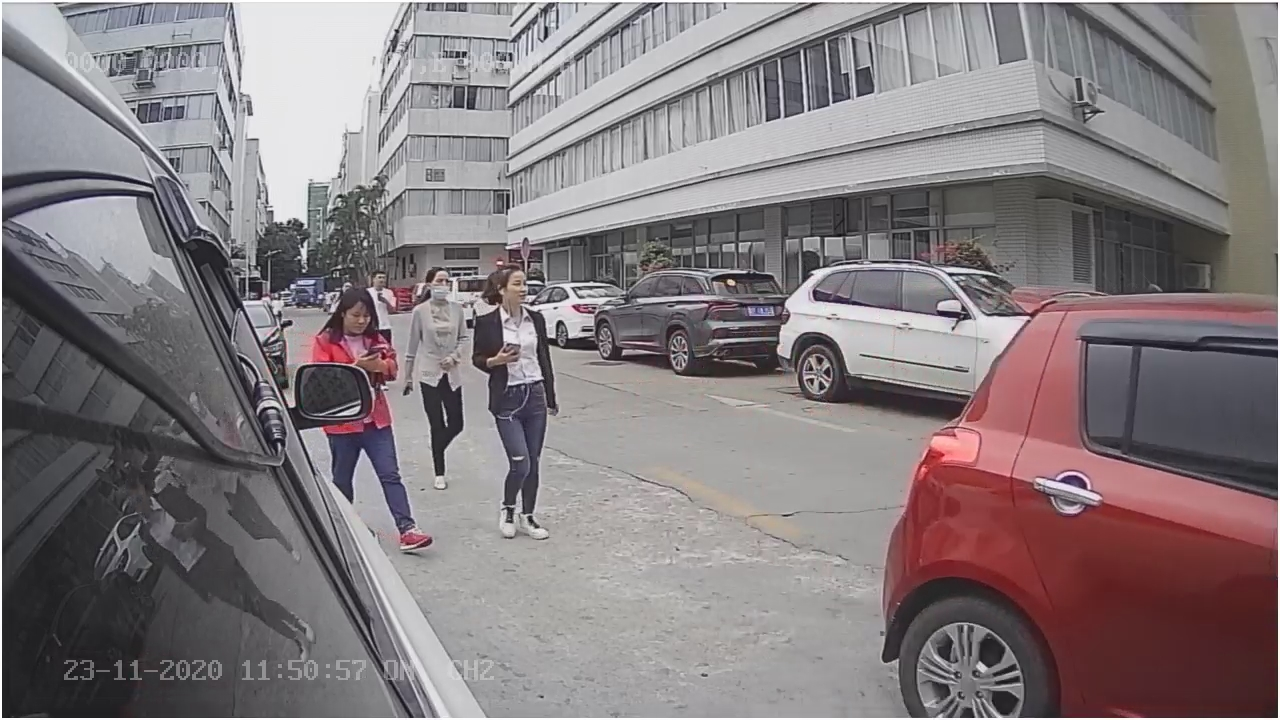person: (472, 264, 573, 543)
